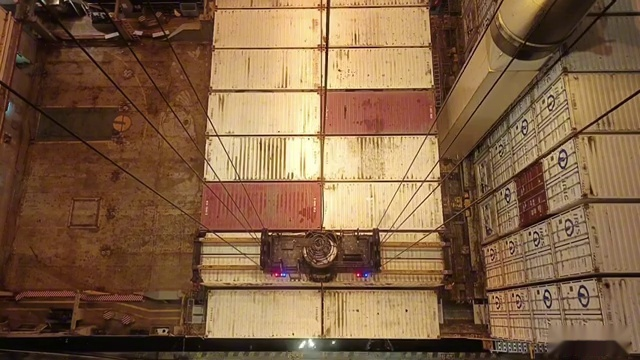container: (194, 228, 448, 287), (204, 289, 443, 341), (197, 182, 446, 230), (202, 136, 439, 183), (205, 92, 436, 137), (207, 48, 434, 93), (211, 6, 435, 49)
guide_mark: (62, 347, 561, 360), (98, 340, 542, 353)
spreader: (183, 223, 457, 288)
target_slot: (194, 230, 452, 288)
